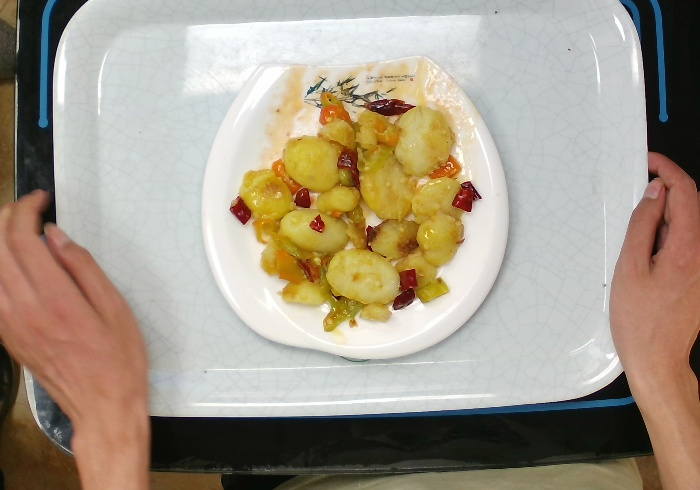JYsf-Mian_Pan: (195, 49, 513, 363)
